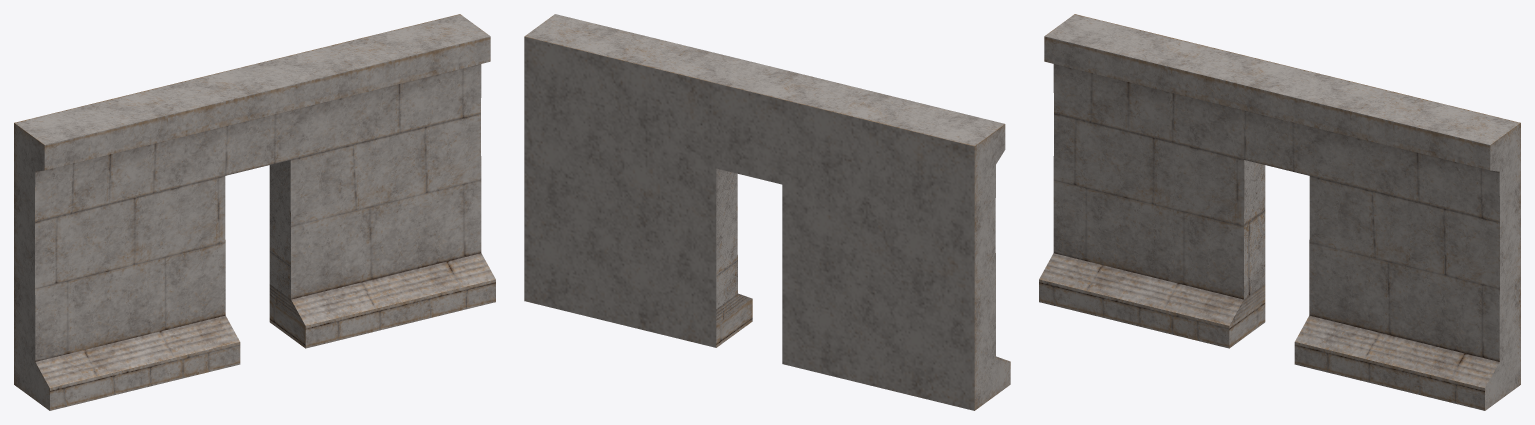
File: StoneWall_Door.fbx
3 views of the same model, side by side, from view 1: azimuth 30°, elevation 25°; view 2: azimuth 150°, elevation 25°; view 3: azimuth 330°, elevation 25° (orthographic).
Visible parts, largest first — view 1: Wall_Doorway; view 2: Wall_Doorway; view 3: Wall_Doorway.
Boxes of the visible parts, box(x1,y1,x2,y2) form: Wall_Doorway: box(14, 14, 495, 410); Wall_Doorway: box(524, 14, 1010, 410); Wall_Doorway: box(1039, 14, 1520, 410).
Size of the model in its own units: 500 by 281 by 69.52.
